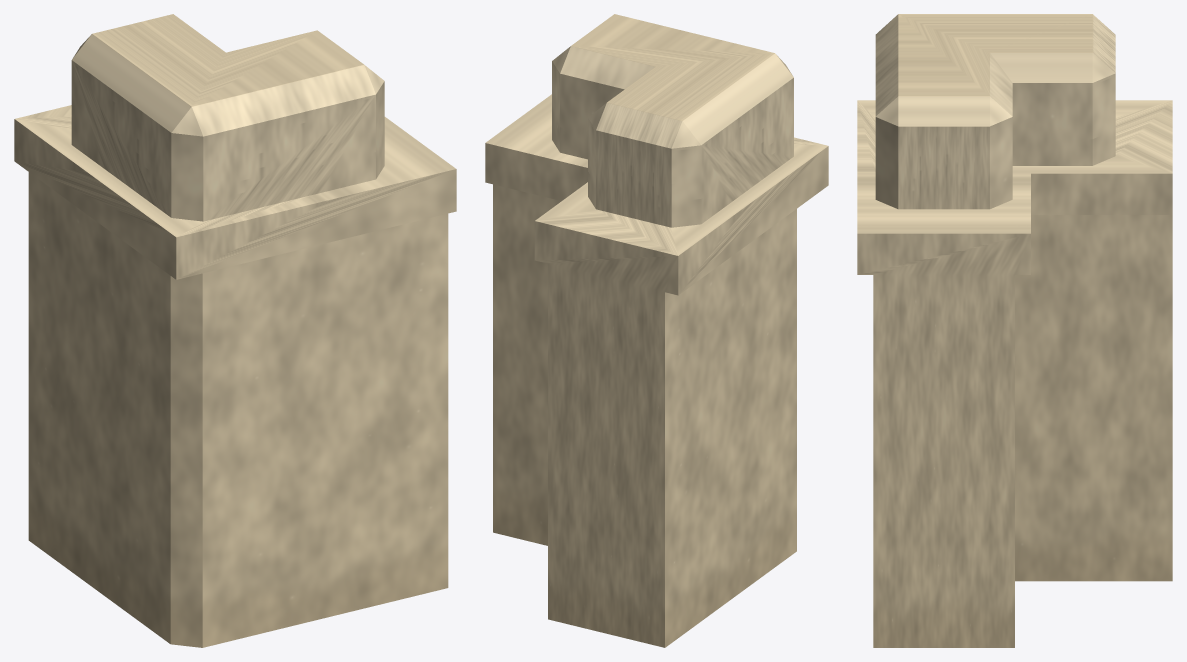
3 views of the same model, side by side, from view 1: azimuth 30°, elevation 25°; view 2: azimuth 150°, elevation 25°; view 3: azimuth 270°, elevation 25° (orthographic). The views are drawn at different scales.
Parts seen in each view (by area): view 1: wall; view 2: wall; view 3: wall.
Part boxes in pixels (x1=…): wall: x1=14, y1=14, x2=456, y2=647; wall: x1=485, y1=14, x2=828, y2=647; wall: x1=857, y1=14, x2=1172, y2=647.
Size of the model in its own units: 0.69 by 1.25 by 0.69.
1 material, 1 textured.
